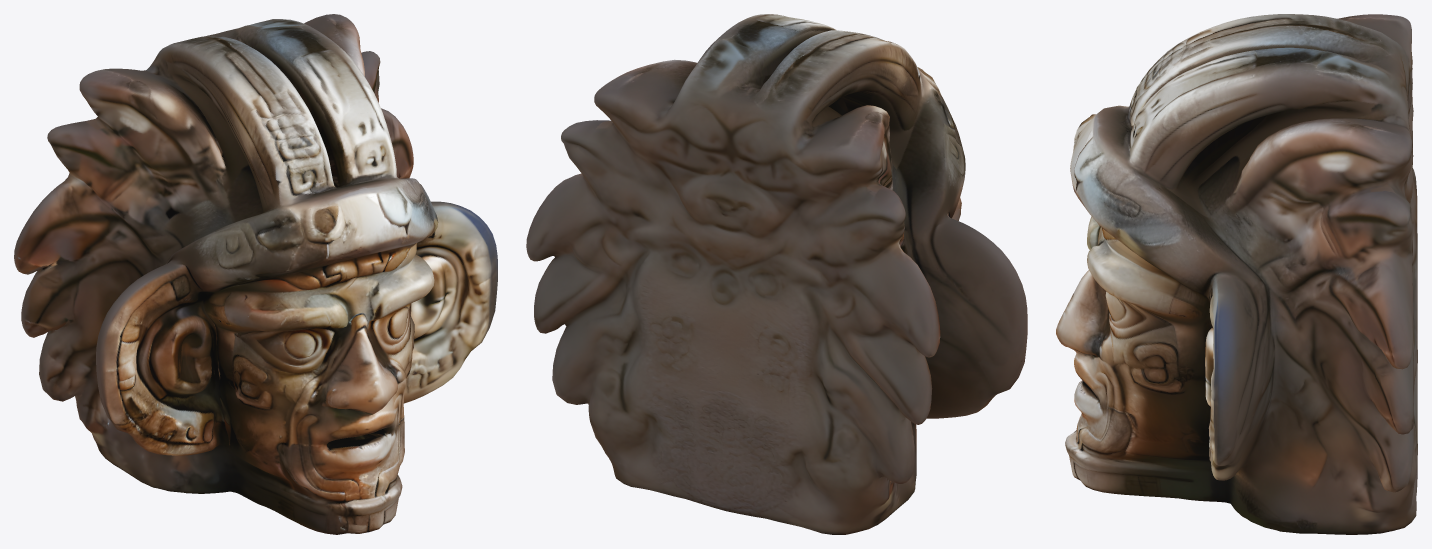
File: base_basic_shaded.glb
The picture shows the model from 3 angles, left to right: view 1: azimuth 30°, elevation 25°; view 2: azimuth 150°, elevation 25°; view 3: azimuth 270°, elevation 25°; orthographic projection. The views are drawn at different scales.
Visible parts, largest first — view 1: model; view 2: model; view 3: model.
Boxes of the visible parts, box(x1,y1,x2,y2) form: model: box(14, 14, 497, 534); model: box(526, 14, 1027, 534); model: box(1056, 14, 1417, 534).
Size of the model in its own units: 1.91 by 1.9 by 1.43.
1 material, 1 textured.
